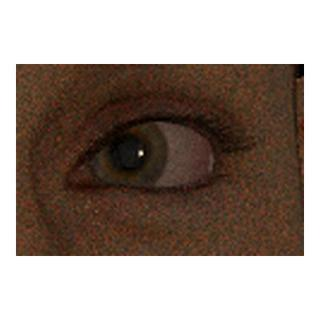pupil: (109, 135, 144, 169)
